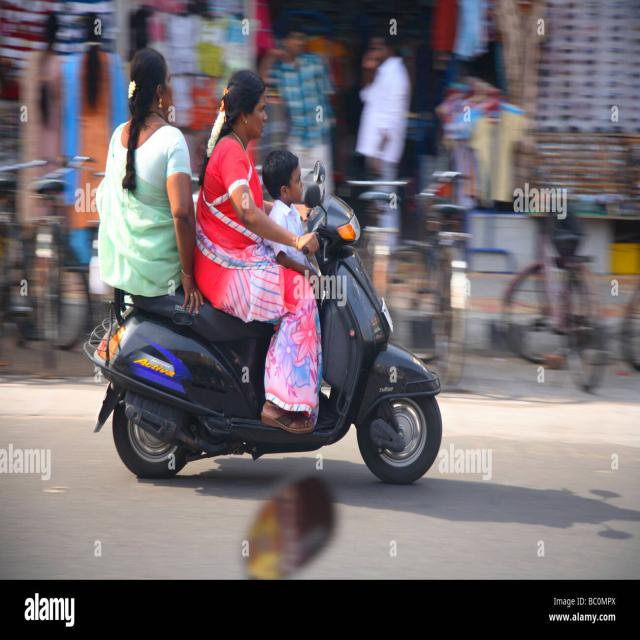motorcycle: (89, 194, 440, 486)
